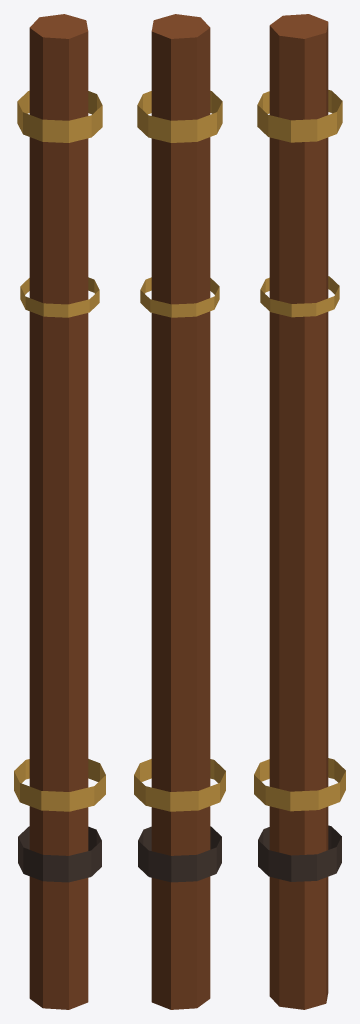
Rendered from custom_broom_cabo_basic.obj.
3 views of the same model, side by side, from view 1: azimuth 30°, elevation 25°; view 2: azimuth 150°, elevation 25°; view 3: azimuth 330°, elevation 25° (orthographic).
Bounding box in the file's own units: 0.158 × 1.83 × 0.1503.
